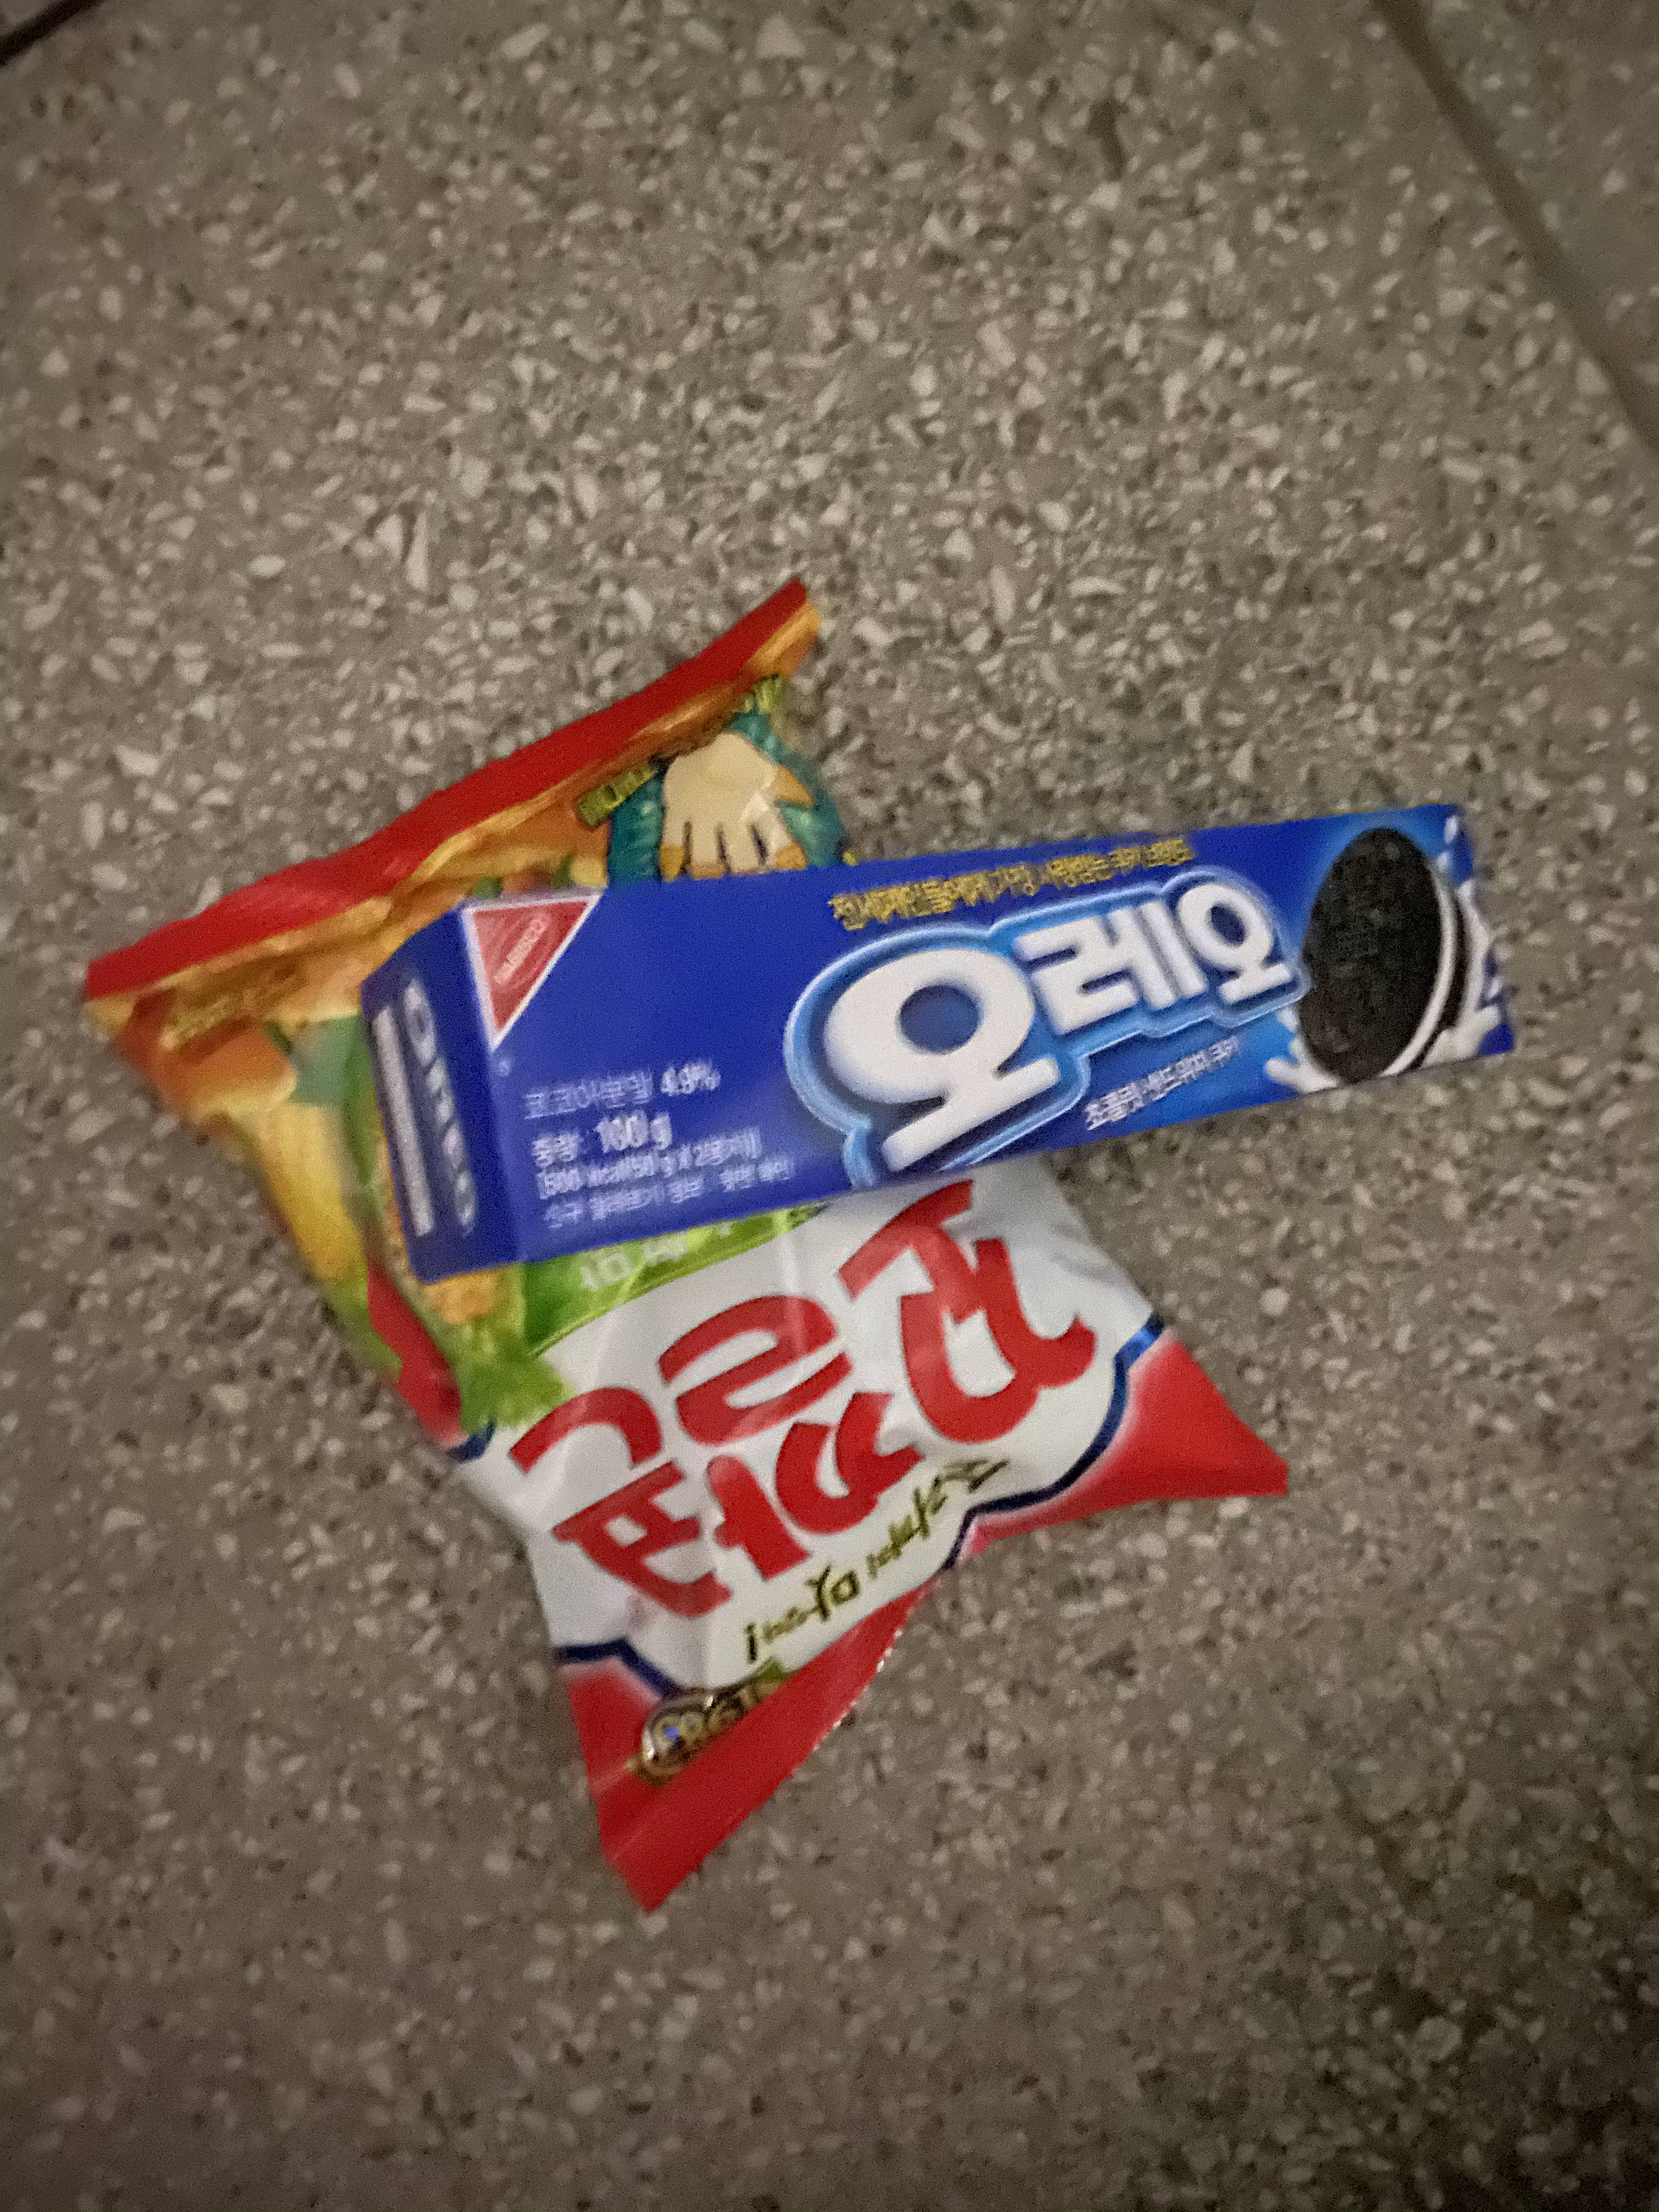ggoggalcon: (68, 554, 1297, 1942)
oreo: (350, 796, 1581, 1299)
